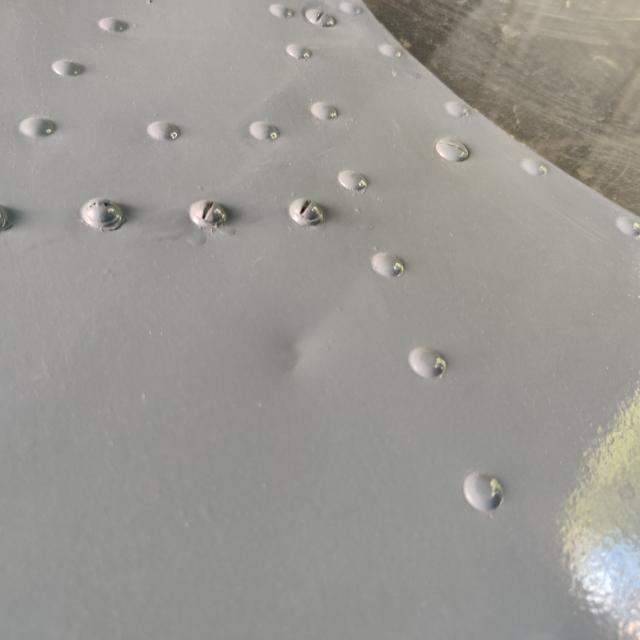dent: (260, 320, 331, 397)
